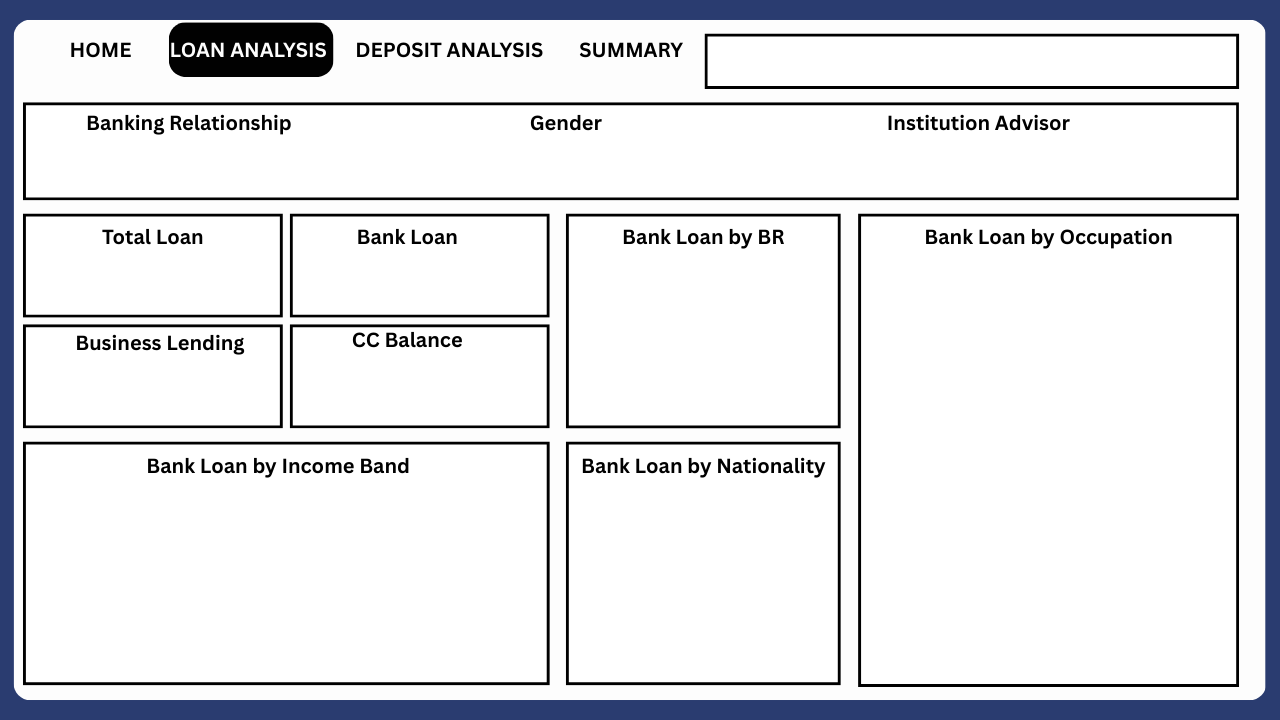

The dashboard page shown, as its layout file describes it:
{"tool":"powerbi","page":{"name":"Loan Analysis","canvas":[1280,720],"ordinal":1},"visuals":[{"type":"slicer","fields":{"Values":["Banking.Joined Bank.Variation.Date Hierarchy.Year"]},"box":[709.4,38.4,517.3,39.8],"z":0},{"type":"actionButton","box":[57.6,28.8,100.2,49.4],"z":1000},{"type":"actionButton","box":[344.4,28.8,214.1,49.4],"z":2000},{"type":"actionButton","box":[558.5,28.8,133.1,49.4],"z":3000},{"type":"card","fields":{"Values":["Banking.Total Loans"]},"box":[41.2,247,211.3,60.4],"z":4000},{"type":"card","fields":{"Values":["Sum(Banking.Bank Loans)"]},"box":[307.4,247,211.3,60.4],"z":5000},{"type":"card","fields":{"Values":["Sum(Banking.Business Lending)"]},"box":[52.1,349.9,211.3,60.4],"z":6000},{"type":"card","fields":{"Values":["Sum(Banking.Credit Card Balance)"]},"box":[307.4,349.9,211.3,60.4],"z":7000},{"type":"donutChart","fields":{"Category":["Banking.Income Band"],"Y":["Sum(Banking.Bank Loans)"]},"box":[41.2,480.3,496.7,193.5],"z":8000},{"type":"clusteredColumnChart","fields":{"Category":["Banking.BRId"],"Y":["Sum(Banking.Bank Loans)"]},"box":[575,247,259.3,163.3],"z":9000},{"type":"clusteredColumnChart","fields":{"Y":["Sum(Banking.Bank Loans)"],"Category":["Banking.Nationality"]},"box":[575,480.3,259.3,193.5],"z":10000},{"type":"clusteredColumnChart","fields":{"Y":["Sum(Banking.Bank Loans)"],"Category":["Banking.Occupation"]},"box":[871.4,262.1,355.4,411.7],"z":11000},{"type":"slicer","fields":{"Values":["Banking.BRId"]},"box":[24.7,133.1,426.8,50.8],"z":12000},{"type":"slicer","fields":{"Values":["Banking.IAId"]},"box":[742.4,133.1,484.4,50.8],"z":13000},{"type":"slicer","fields":{"Values":["Banking.GenderId"]},"box":[436.4,133.1,277.2,50.8],"z":14000}]}

Visuals, with their boxes in screenshot pixels (x1, y1, x2, y2), scaled from the page's 1280x720 canvas onto the 1280x720 screenshot:
slicer - Banking.Joined Bank.Variation.Date Hierarchy.Year: (709,38,1227,78)
actionButton: (58,29,158,78)
actionButton: (344,29,558,78)
actionButton: (558,29,692,78)
card - Banking.Total Loans: (41,247,252,307)
card - Sum(Banking.Bank Loans): (307,247,519,307)
card - Sum(Banking.Business Lending): (52,350,263,410)
card - Sum(Banking.Credit Card Balance): (307,350,519,410)
donutChart - Banking.Income Band x Sum(Banking.Bank Loans): (41,480,538,674)
clusteredColumnChart - Banking.BRId x Sum(Banking.Bank Loans): (575,247,834,410)
clusteredColumnChart - Sum(Banking.Bank Loans) x Banking.Nationality: (575,480,834,674)
clusteredColumnChart - Sum(Banking.Bank Loans) x Banking.Occupation: (871,262,1227,674)
slicer - Banking.BRId: (25,133,452,184)
slicer - Banking.IAId: (742,133,1227,184)
slicer - Banking.GenderId: (436,133,714,184)
